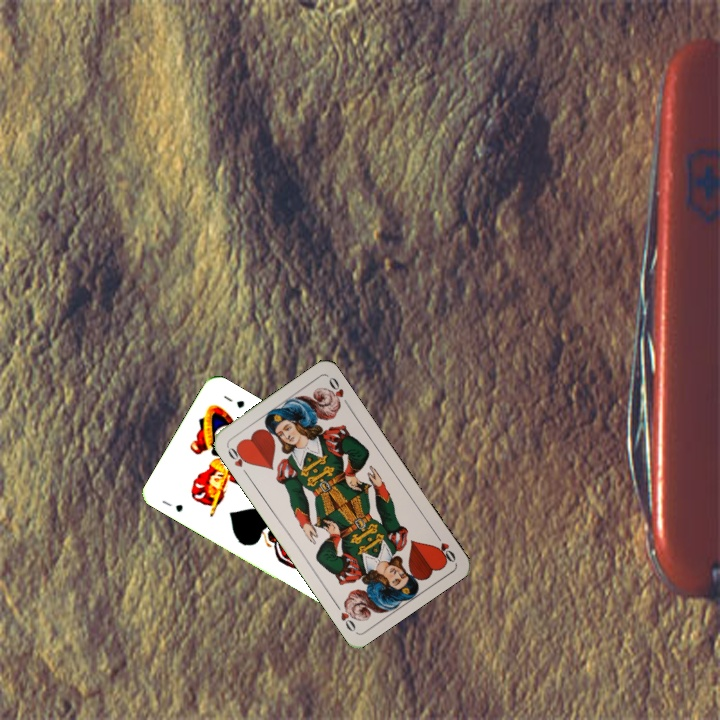GU: (158, 496, 186, 515)
HO: (223, 442, 252, 478), (430, 529, 458, 565)
